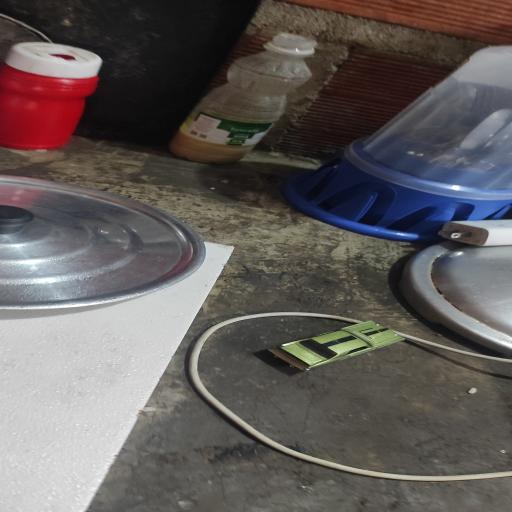Carrito: (268, 321, 404, 371)
